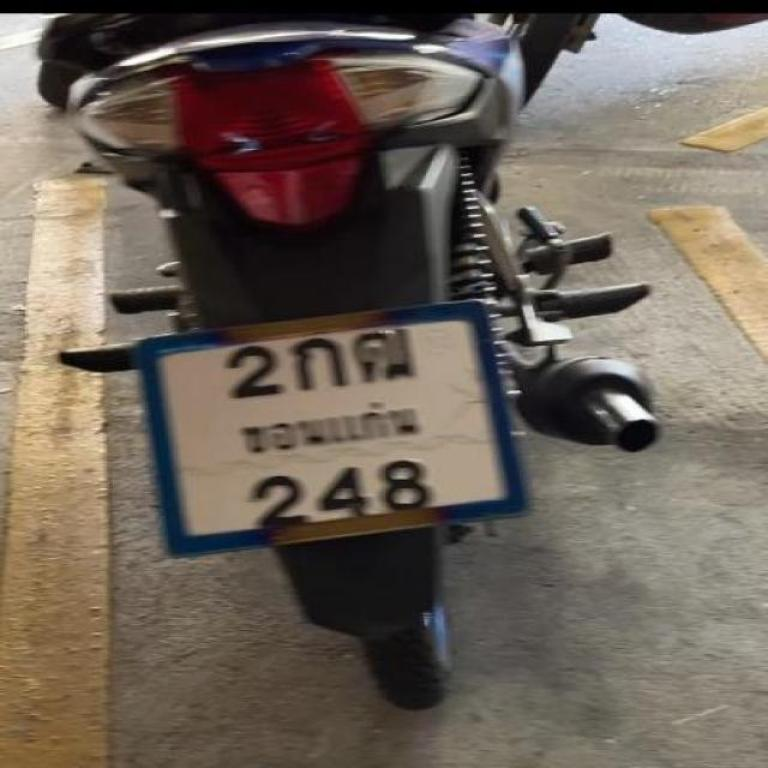license plate: (134, 302, 522, 554)
